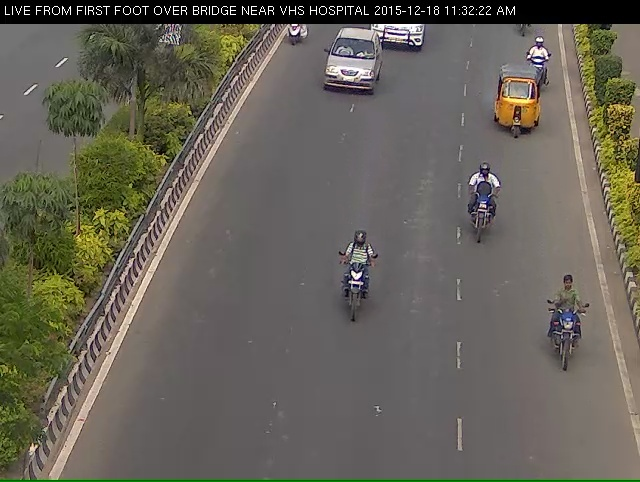Auto: (483, 64, 548, 153)
Car: (322, 40, 379, 107), (364, 23, 440, 63)
Person: (303, 241, 399, 357), (544, 284, 599, 396), (456, 171, 509, 264), (522, 46, 562, 94), (275, 17, 311, 56)
